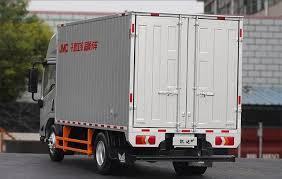truck: (26, 7, 249, 179)
